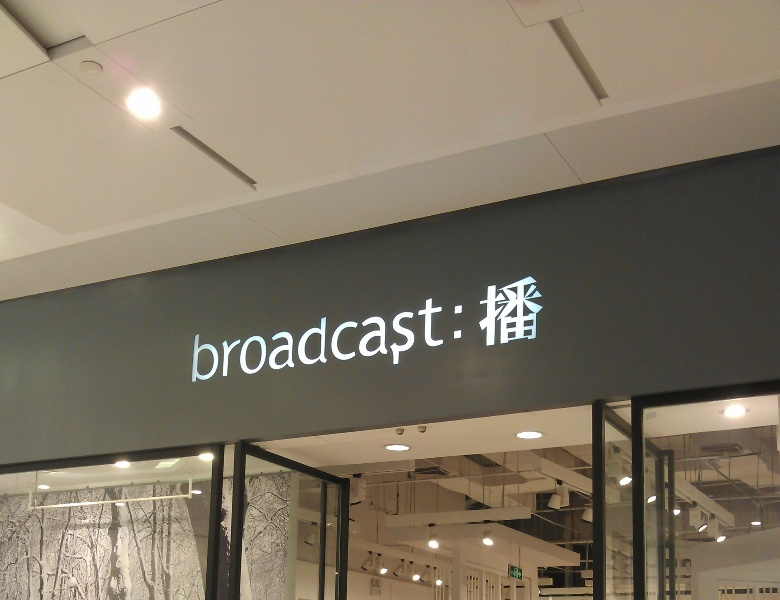text: (529, 275, 545, 396), (193, 275, 208, 396), (209, 275, 224, 396), (225, 275, 240, 396), (241, 275, 256, 396), (257, 275, 272, 396), (273, 275, 288, 396), (289, 275, 304, 396), (305, 275, 320, 396), (321, 275, 336, 396), (337, 275, 352, 396), (353, 275, 368, 396), (369, 275, 384, 396), (385, 275, 400, 396), (401, 275, 416, 396), (417, 275, 432, 396), (433, 275, 448, 396), (449, 275, 464, 396), (465, 275, 480, 396), (481, 275, 496, 396), (497, 275, 512, 396), (513, 275, 528, 396)
